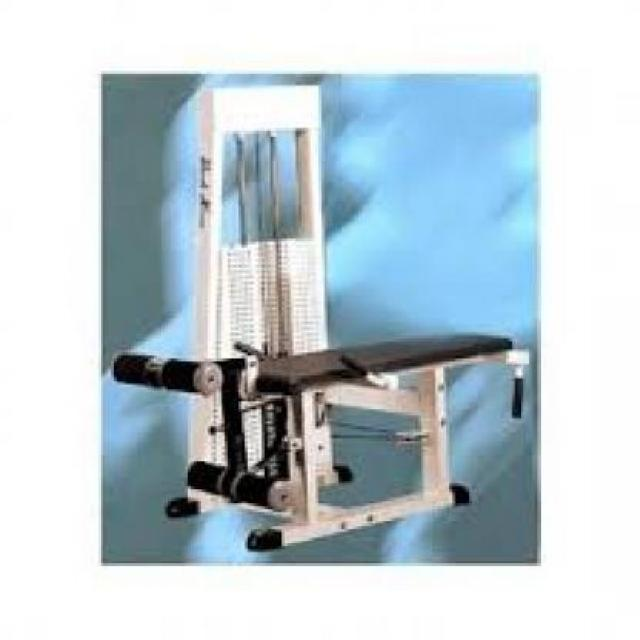reg curl machine: (114, 80, 531, 557)
